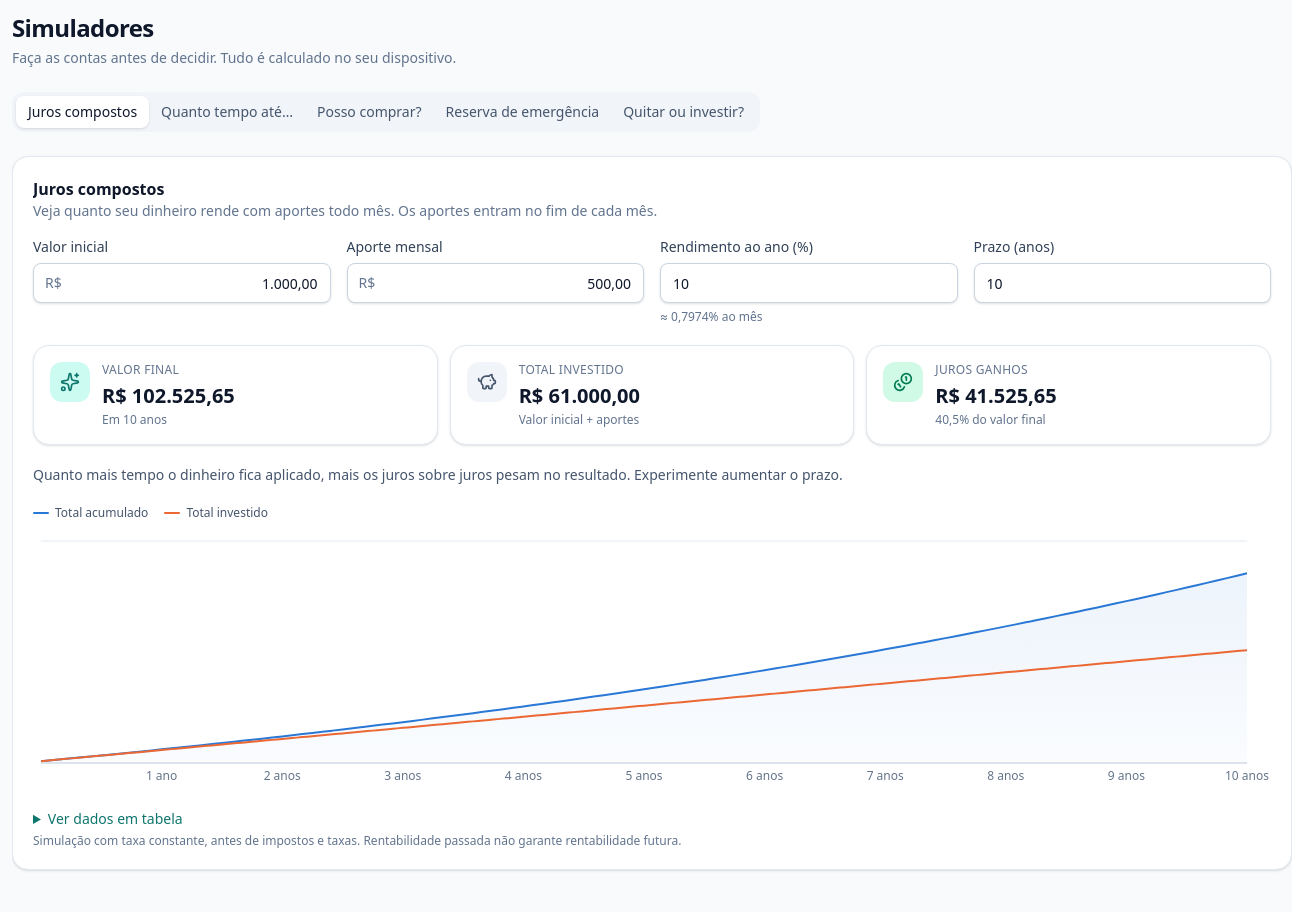
it: SimulatorsPage › juros compostos: calcula o valor final, o investido e os juros em tempo real
Expected: the heading "Simuladores" is shown, 12,11 -> 154,44
Expected: the text "R$ 61.000,00" is shown, 519,382 -> 640,409
Replace the text in the field labelled "Rendimento ao ano (%)" with "0" at (809, 283), box 660,263 -> 958,303
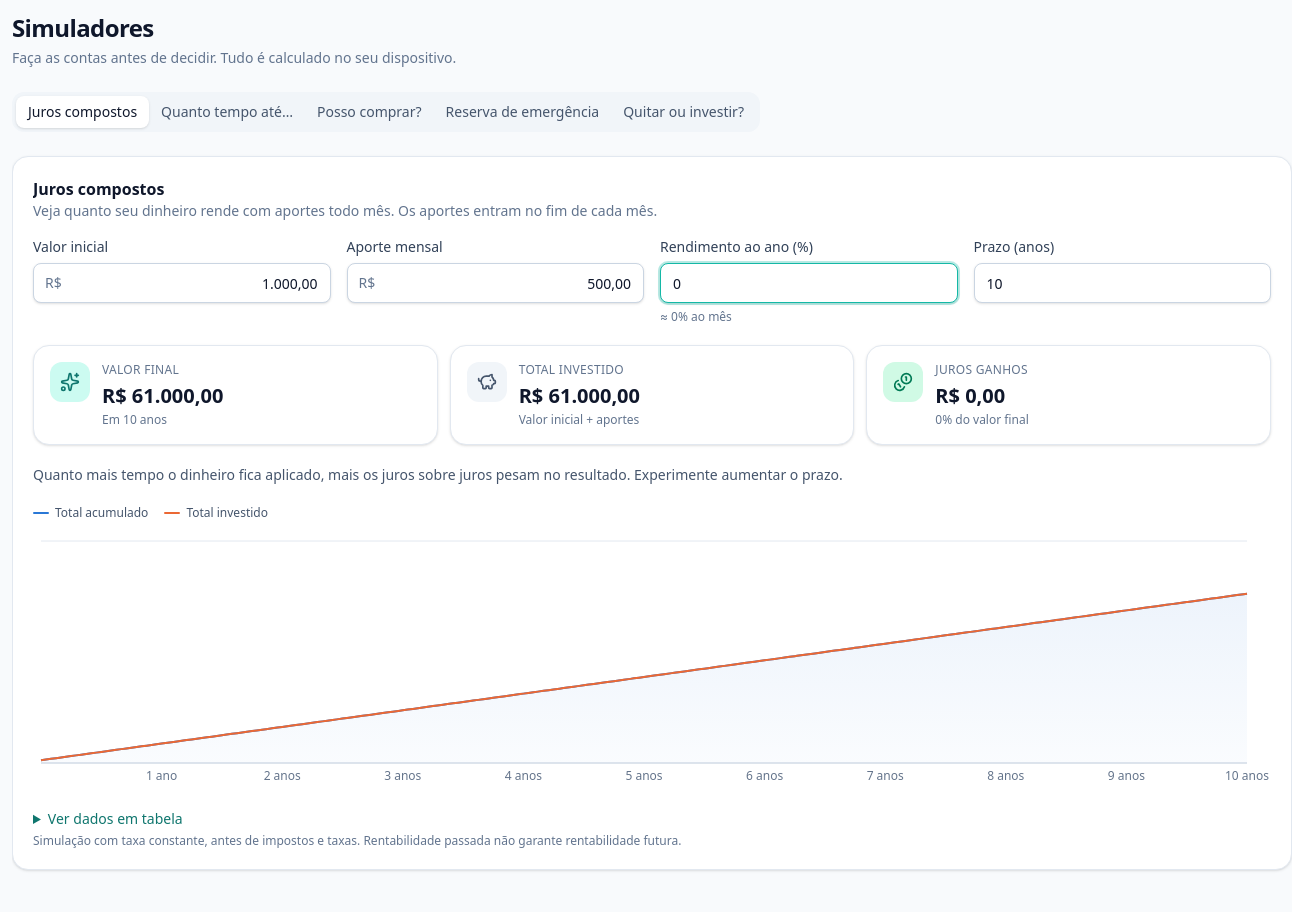
Replace the text in the number field labelled "Prazo (anos)" with "1" at (1122, 283), box 974,263 -> 1271,303
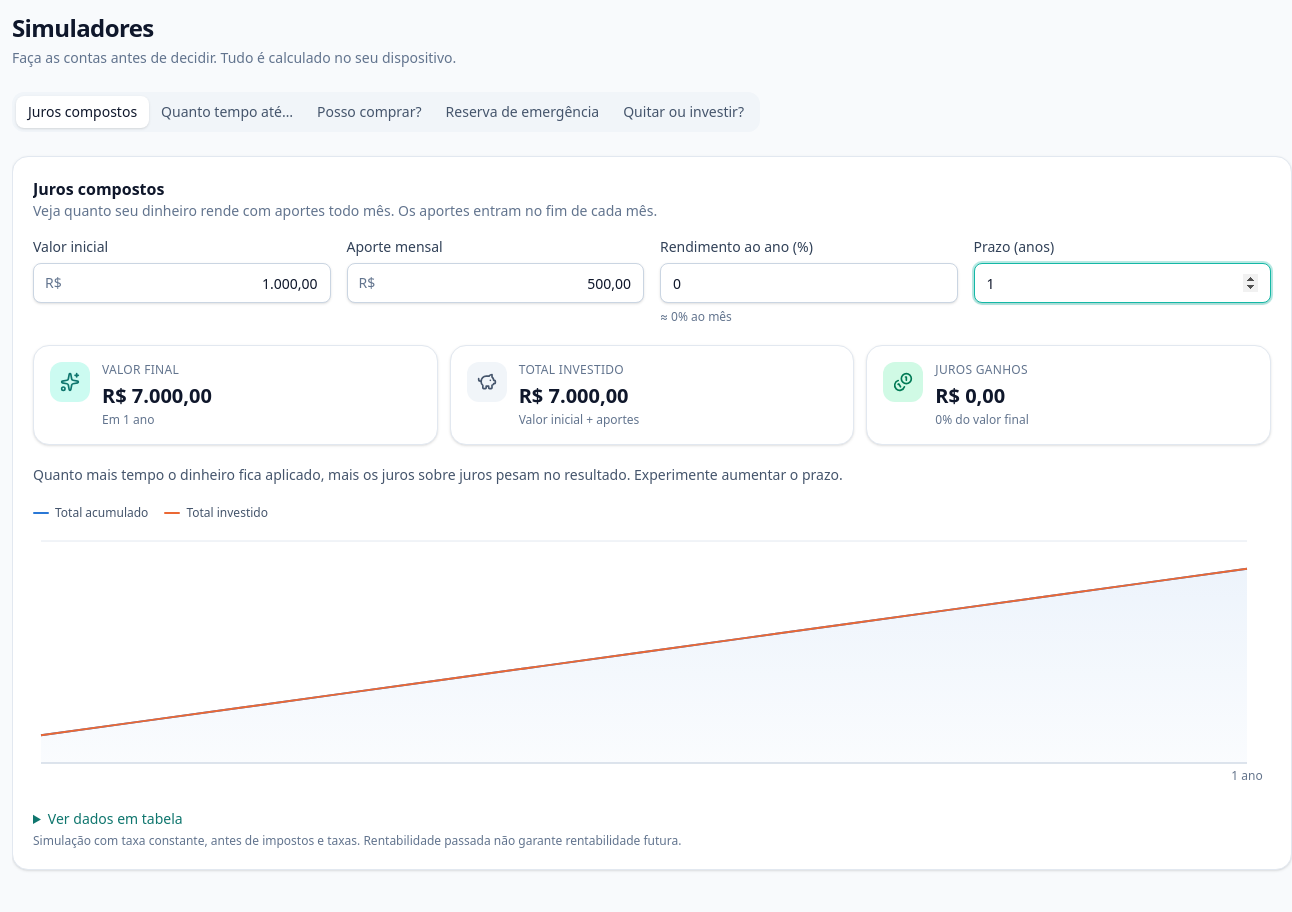
Expected: the text "R$ 0,00" is shown, 935,382 -> 1005,409
Expected: the text "R$ 7.000,00" is shown 2 times, 102,382 -> 212,409; 519,382 -> 629,409
Clear the field labelled "Valor inicial" at (182, 283), box 33,263 -> 330,303
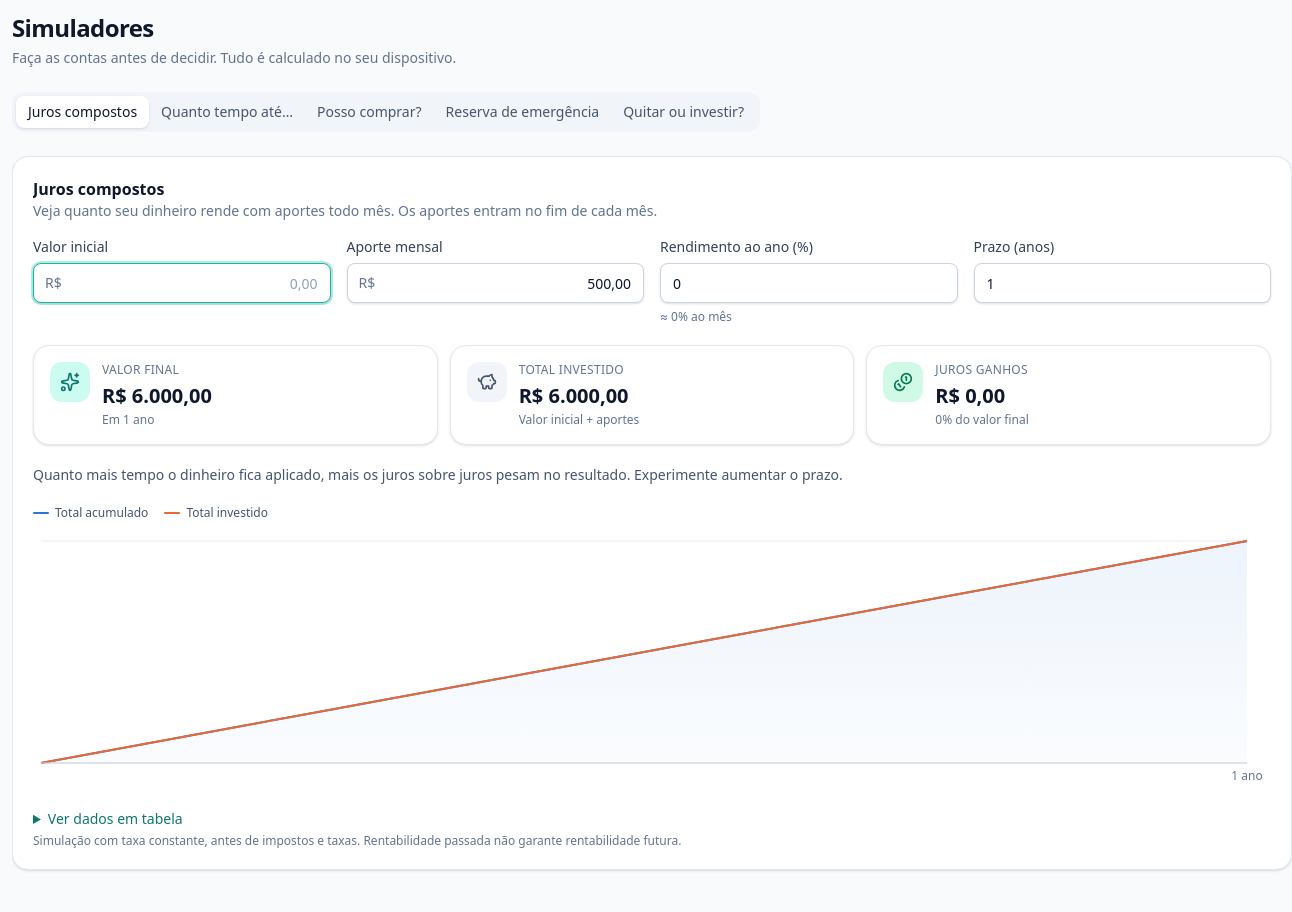
Replace the text in the field labelled "Aporte mensal" with "2.000" at (495, 283), box 346,263 -> 644,303
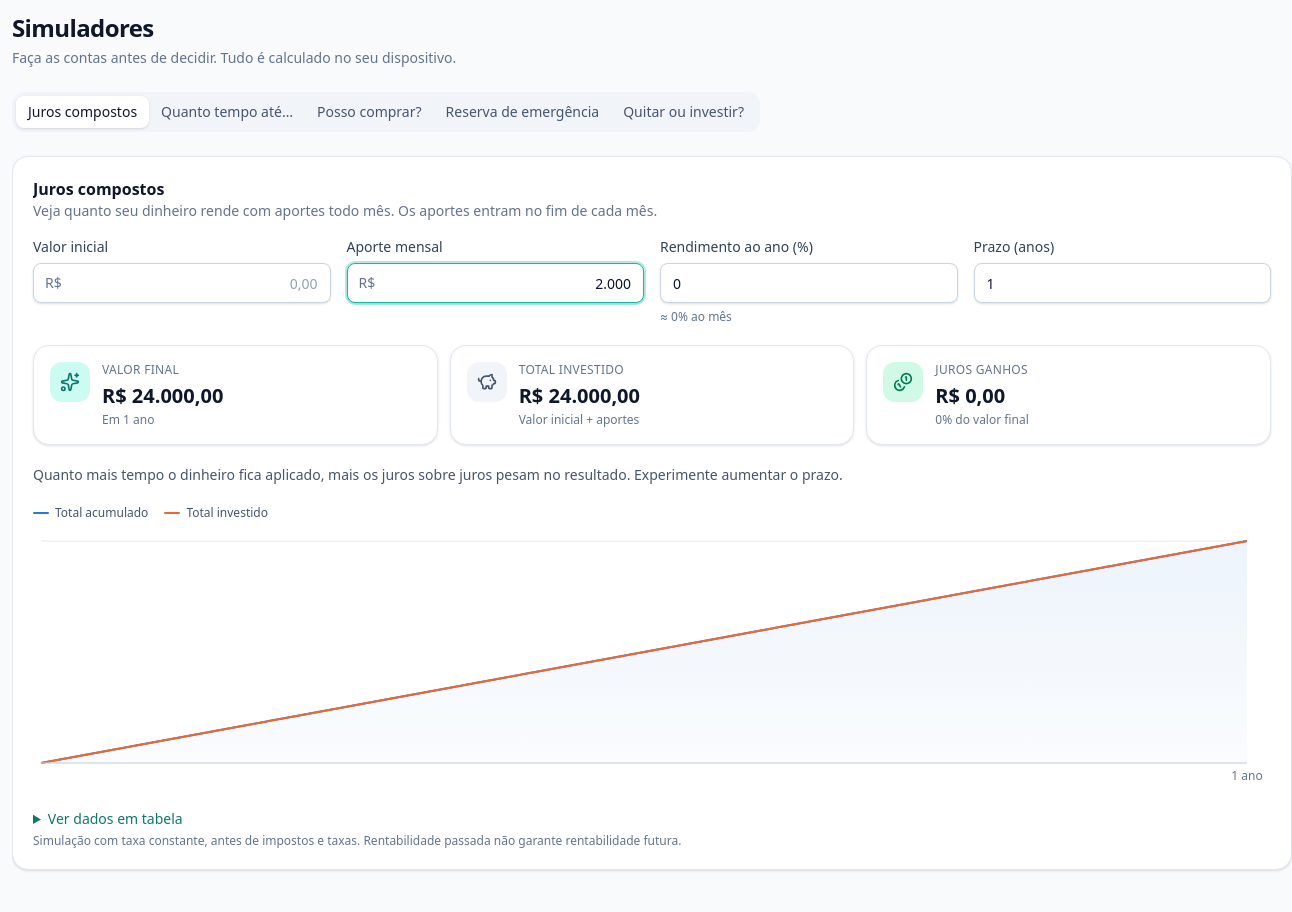
Replace the text in the field labelled "Rendimento ao ano (%)" with "12,6825" at (809, 283), box 660,263 -> 958,303
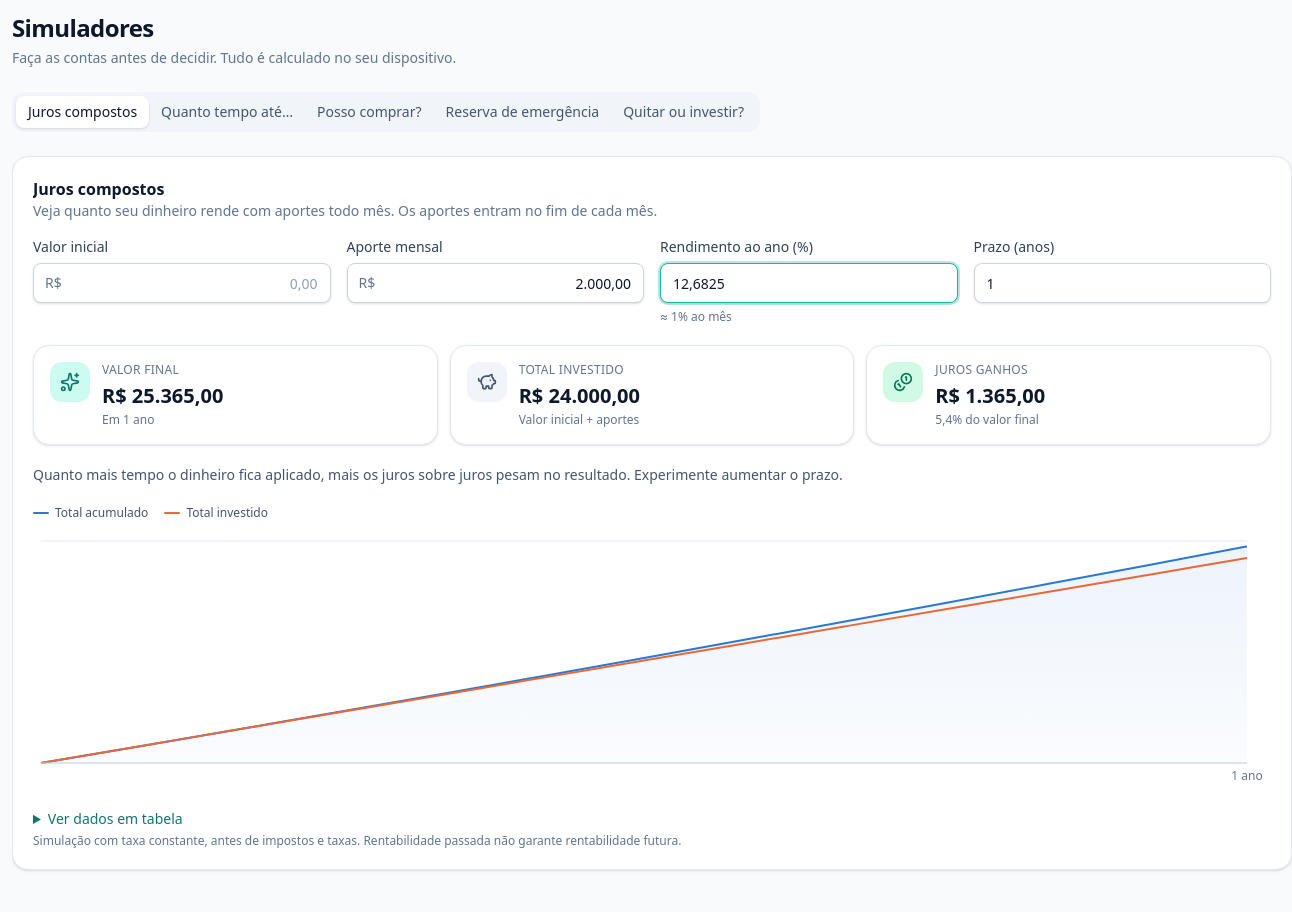
Note: Prazo inválido.
Replace the text in the number field labelled "Prazo (anos)" with "0" at (1122, 283), box 974,263 -> 1271,303
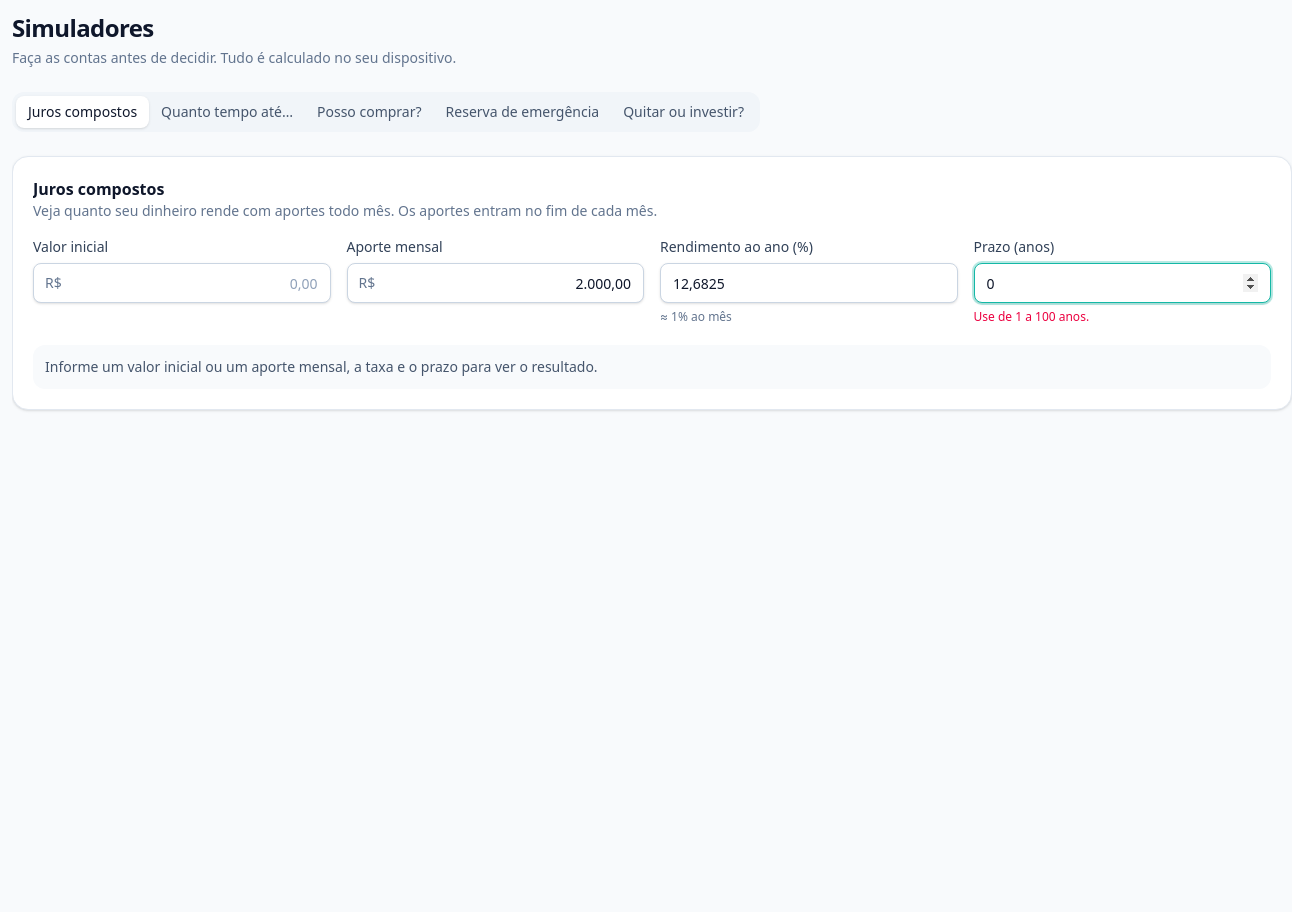
Expected: the text "Use de 1 a 100 anos." is shown, 974,308 -> 1089,325
